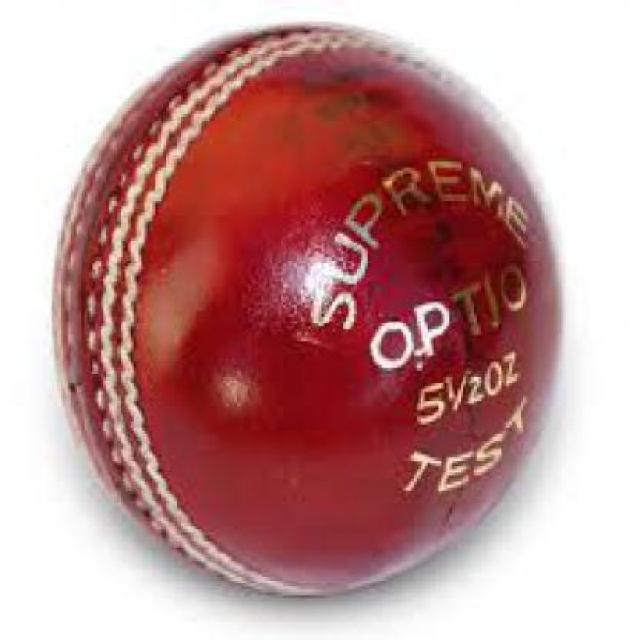Cricket ball: (11, 7, 626, 624)
